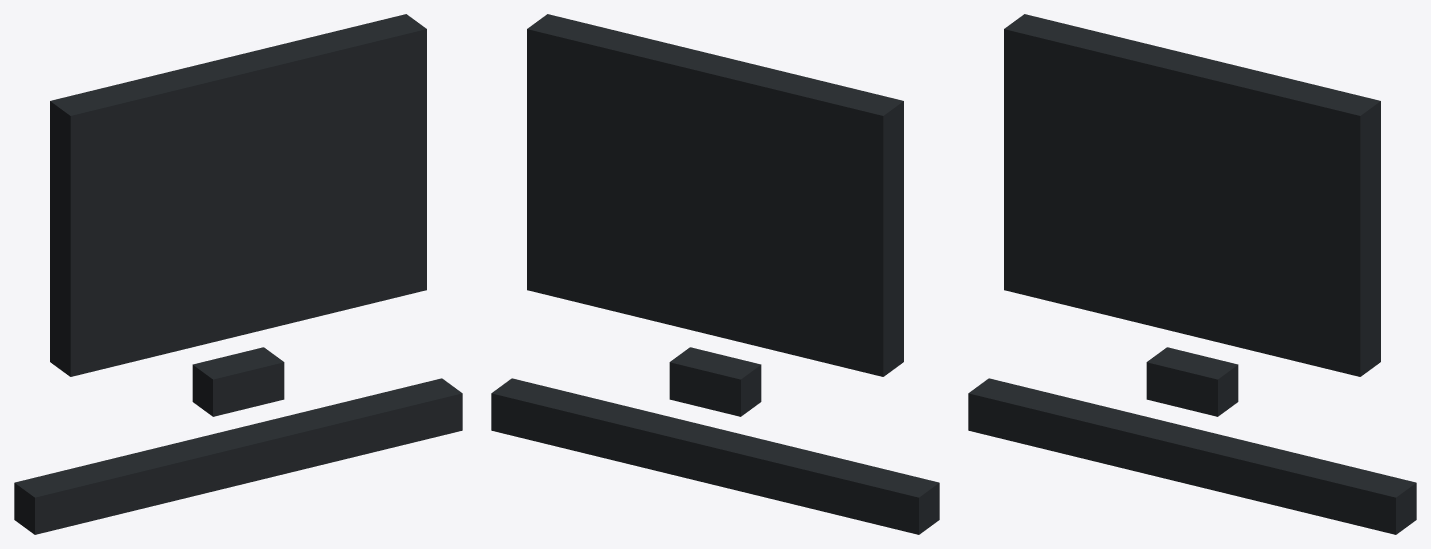
File: TvBack.dae
3 renders of one model, left to right at view 1: azimuth 30°, elevation 25°; view 2: azimuth 150°, elevation 25°; view 3: azimuth 330°, elevation 25°, orthographic.
Visible parts, largest first — view 1: generated; view 2: generated; view 3: generated.
Part boxes in pixels (<box>): generated: <box>14,14,462,534</box>; generated: <box>491,14,939,534</box>; generated: <box>968,14,1416,534</box>.
Bounding box in the file's own units: 12 × 11 × 1.
1 material, 1 textured.
